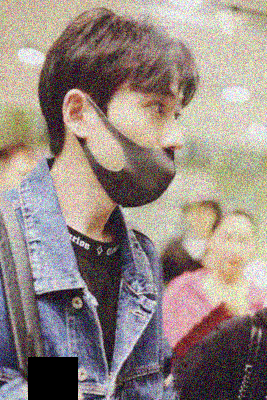mask_weared_incorrect: (85, 97, 184, 207)
